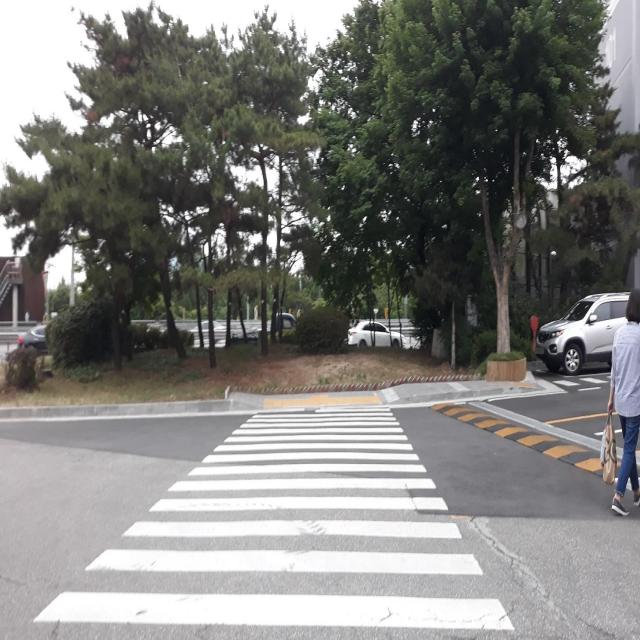횡단보도: (30, 403, 519, 634), (553, 376, 613, 392)
